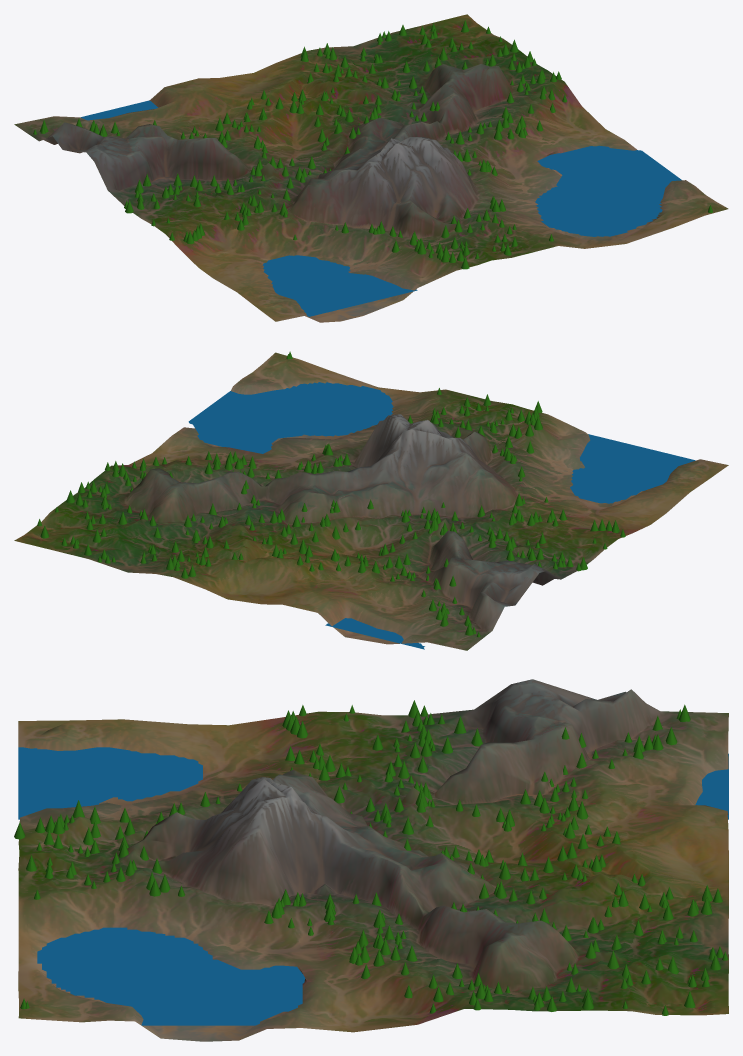
The picture shows the model from 3 angles, top to bottom: view 1: azimuth 30°, elevation 25°; view 2: azimuth 150°, elevation 25°; view 3: azimuth 270°, elevation 25°; orthographic projection. The views are drawn at different scales.
Parts seen in each view (by area): view 1: Output_Mesh; view 2: Output_Mesh; view 3: Output_Mesh.
Part boxes in pixels (box(x1,y1,x2,y2)): Output_Mesh: box(14, 14, 728, 322); Output_Mesh: box(14, 351, 728, 650); Output_Mesh: box(14, 679, 728, 1041).
Bounding box in the file's own units: 1020 × 166 × 1014.
3 materials, 3 textured.
